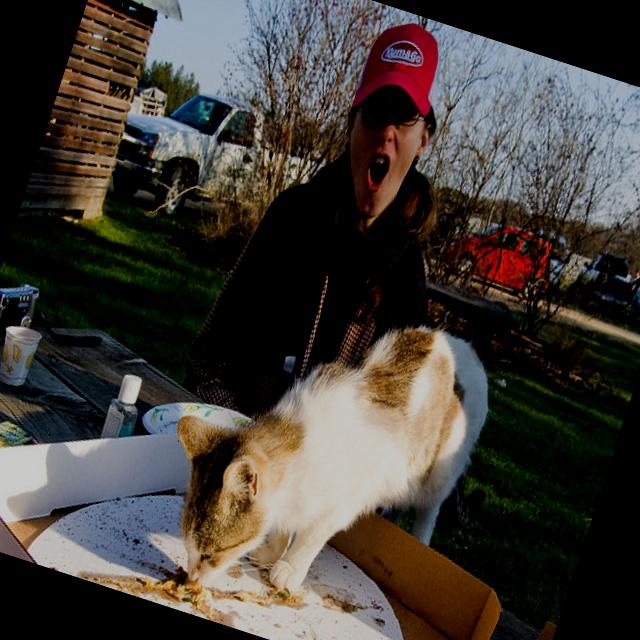Vehicle: (100, 69, 323, 250), (440, 205, 566, 306), (568, 247, 640, 324), (623, 268, 640, 333), (436, 207, 462, 236)
